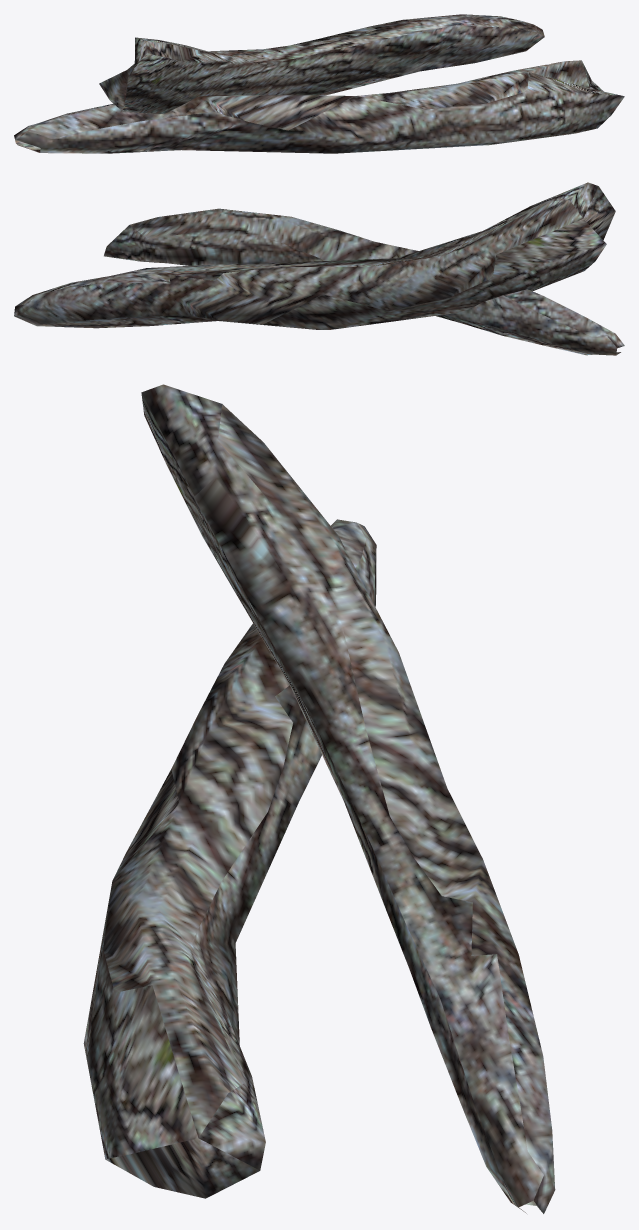
The model's file is Branches_Large_01.obj.
3 renders of one model, top to bottom at view 1: azimuth 30°, elevation 25°; view 2: azimuth 150°, elevation 25°; view 3: azimuth 270°, elevation 25°, orthographic. The views are drawn at different scales.
Visible parts, largest first — view 1: polySurface31; view 2: polySurface31; view 3: polySurface31.
Part boxes in pixels (<box>): polySurface31: <box>14,14,624,153</box>; polySurface31: <box>14,182,624,355</box>; polySurface31: <box>83,384,555,1213</box>.
Size of the model in its own units: 39.79 by 12.65 by 14.43.
1 material, 1 textured.
